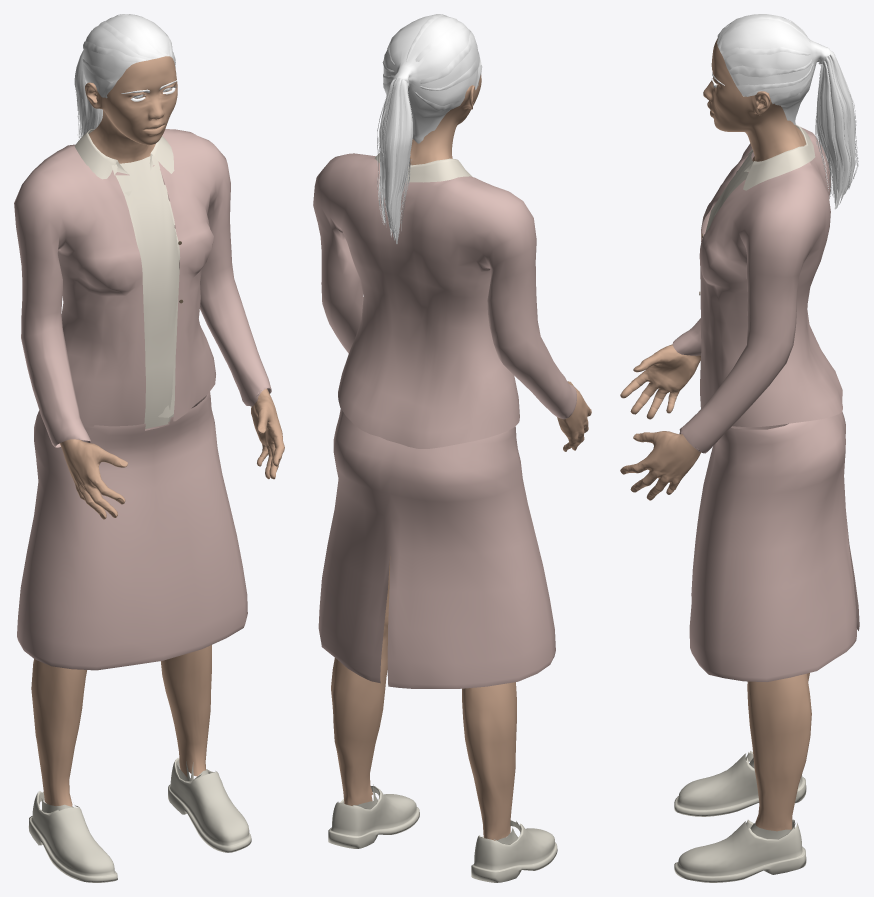
File: young-woman.glb
3 views of the same model, side by side, from view 1: azimuth 30°, elevation 25°; view 2: azimuth 150°, elevation 25°; view 3: azimuth 270°, elevation 25° (orthographic). The views are drawn at different scales.
Parts seen in each view (by area): view 1: CC0 fitted clothes/female_elegantsuit01/female_elegantsuit01, smooth human anatomy with per-corner UV seams, reference fitted ivory crew-neck centre, CC0 fitted clothes/shoes04/shoes04, CC0 fitted hair/ponytail01/ponytail01, reference fitted original CC0 ivory collar, reference fitted continuous ivory knit underlayer; view 2: CC0 fitted clothes/female_elegantsuit01/female_elegantsuit01, smooth human anatomy with per-corner UV seams, CC0 fitted hair/ponytail01/ponytail01, CC0 fitted clothes/shoes04/shoes04, reference fitted original CC0 ivory collar; view 3: CC0 fitted clothes/female_elegantsuit01/female_elegantsuit01, smooth human anatomy with per-corner UV seams, CC0 fitted hair/ponytail01/ponytail01, CC0 fitted clothes/shoes04/shoes04, reference fitted original CC0 ivory collar, reference fitted ivory crew-neck centre.
Boxes of the visible parts, bbox=[...] form: CC0 fitted clothes/female_elegantsuit01/female_elegantsuit01: bbox=[14, 129, 271, 670]; smooth human anatomy with per-corner UV seams: bbox=[31, 56, 284, 806]; reference fitted ivory crew-neck centre: bbox=[111, 155, 179, 428]; CC0 fitted clothes/shoes04/shoes04: bbox=[28, 758, 251, 882]; CC0 fitted hair/ponytail01/ponytail01: bbox=[74, 14, 176, 140]; reference fitted original CC0 ivory collar: bbox=[74, 129, 174, 179]; reference fitted continuous ivory knit underlayer: bbox=[125, 185, 180, 425]; CC0 fitted clothes/female_elegantsuit01/female_elegantsuit01: bbox=[313, 153, 576, 688]; smooth human anatomy with per-corner UV seams: bbox=[331, 74, 591, 840]; CC0 fitted hair/ponytail01/ponytail01: bbox=[377, 14, 482, 243]; CC0 fitted clothes/shoes04/shoes04: bbox=[328, 784, 557, 882]; reference fitted original CC0 ivory collar: bbox=[374, 153, 472, 182]; CC0 fitted clothes/female_elegantsuit01/female_elegantsuit01: bbox=[672, 127, 859, 681]; smooth human anatomy with per-corner UV seams: bbox=[620, 38, 811, 831]; CC0 fitted hair/ponytail01/ponytail01: bbox=[717, 14, 858, 209]; CC0 fitted clothes/shoes04/shoes04: bbox=[674, 751, 806, 882]; reference fitted original CC0 ivory collar: bbox=[743, 124, 815, 190]; reference fitted ivory crew-neck centre: bbox=[705, 151, 753, 232].
Size of the model in its own units: 0.4583 by 1.67 by 0.4382.
